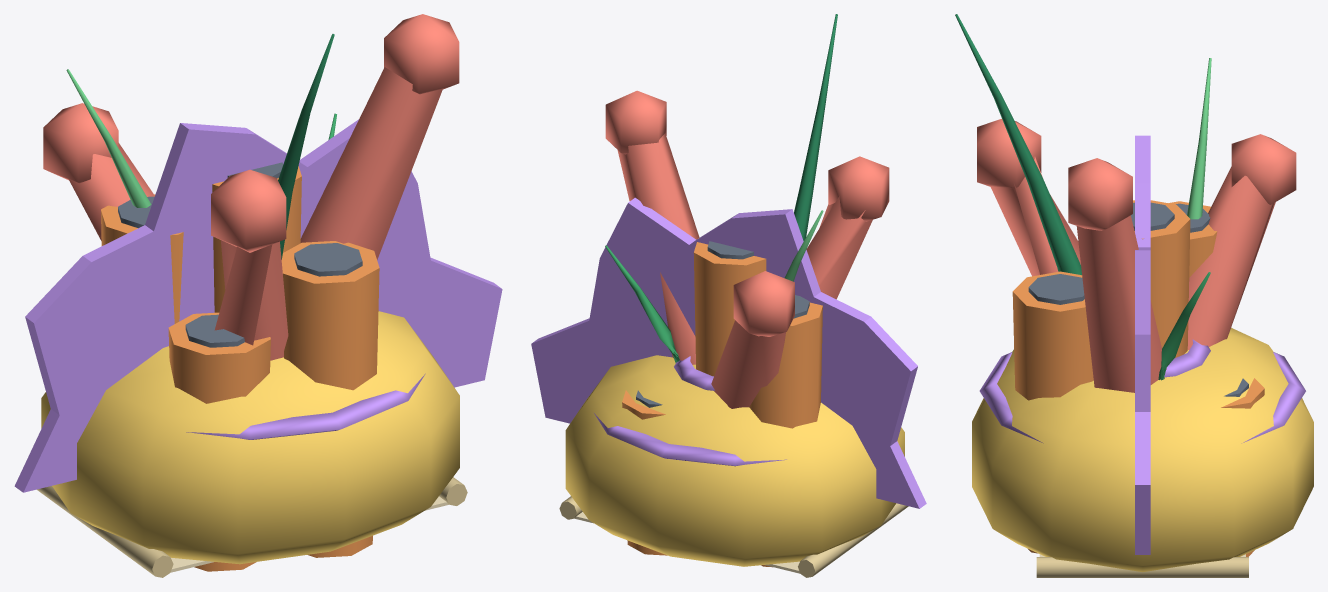
Rendered from recife-props.glb.
3 renders of one model, left to right at view 1: azimuth 30°, elevation 25°; view 2: azimuth 150°, elevation 25°; view 3: azimuth 270°, elevation 25°, orthographic. The views are drawn at different scales.
Visible parts, largest first — view 1: coral-cerebro, coral-leque, coral-galho, coral-tubo, alga, mapa-aberto; view 2: coral-cerebro, coral-leque, coral-galho, coral-tubo, alga, mapa-aberto; view 3: coral-cerebro, coral-galho, coral-tubo, coral-leque, alga, mapa-aberto.
Boxes of the visible parts, x1,y1,x2,y2 form: coral-cerebro: [41, 311, 459, 564]; coral-leque: [14, 119, 502, 492]; coral-galho: [43, 14, 459, 360]; coral-tubo: [101, 162, 379, 571]; alga: [66, 34, 336, 259]; mapa-aberto: [37, 477, 467, 577]; coral-cerebro: [565, 355, 904, 566]; coral-leque: [531, 197, 926, 508]; coral-galho: [605, 90, 889, 408]; coral-tubo: [622, 238, 822, 567]; alga: [605, 14, 837, 363]; mapa-aberto: [559, 496, 908, 577]; coral-cerebro: [972, 327, 1313, 572]; coral-galho: [977, 118, 1296, 392]; coral-tubo: [1012, 200, 1264, 556]; coral-leque: [1135, 135, 1150, 554]; alga: [955, 14, 1211, 380]; mapa-aberto: [1036, 554, 1248, 577].
Size of the model in its own units: 1.56 by 1.84 by 1.13.
